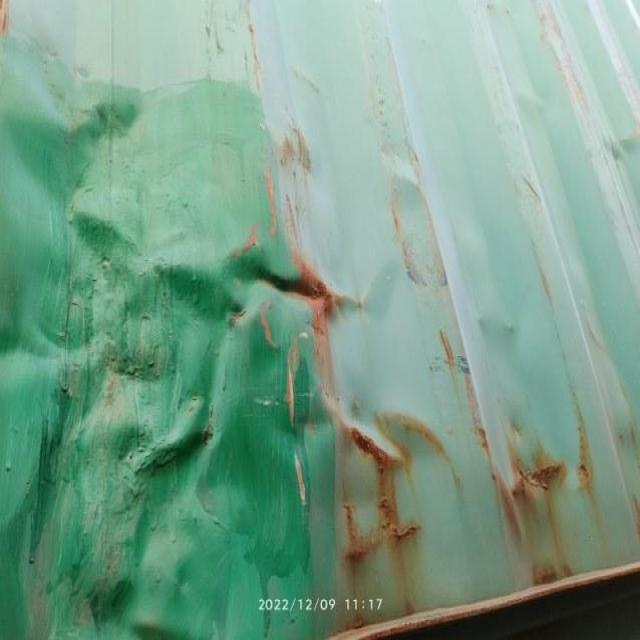dent: (1, 96, 322, 608)
rust: (345, 418, 422, 553)
